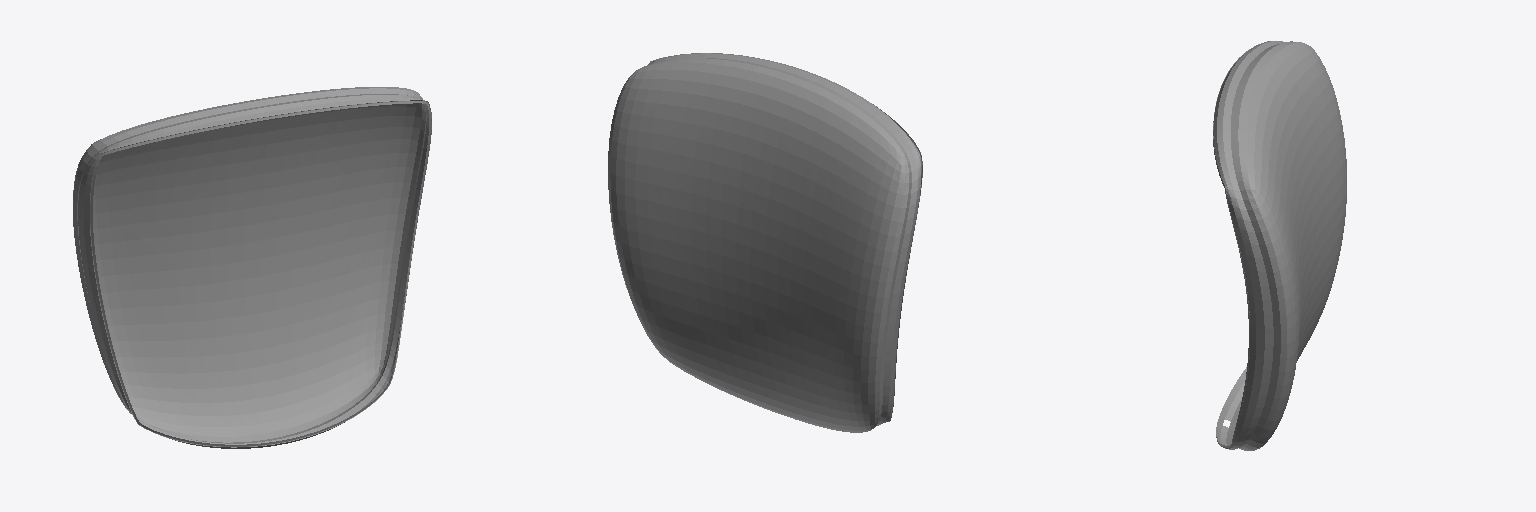
The model's file is chair_back.obj.
3 renders of one model, left to right at view 1: azimuth 30°, elevation 25°; view 2: azimuth 150°, elevation 25°; view 3: azimuth 270°, elevation 25°, orthographic.
Parts seen in each view (by area): view 1: Box027; view 2: Box027; view 3: Box027.
Part boxes in pixels (x1,y1,x2,y2): Box027: (73, 87, 431, 448); Box027: (608, 53, 922, 432); Box027: (1213, 41, 1346, 450).
Bounding box in the file's own units: 0.5079 × 0.5108 × 0.1828.